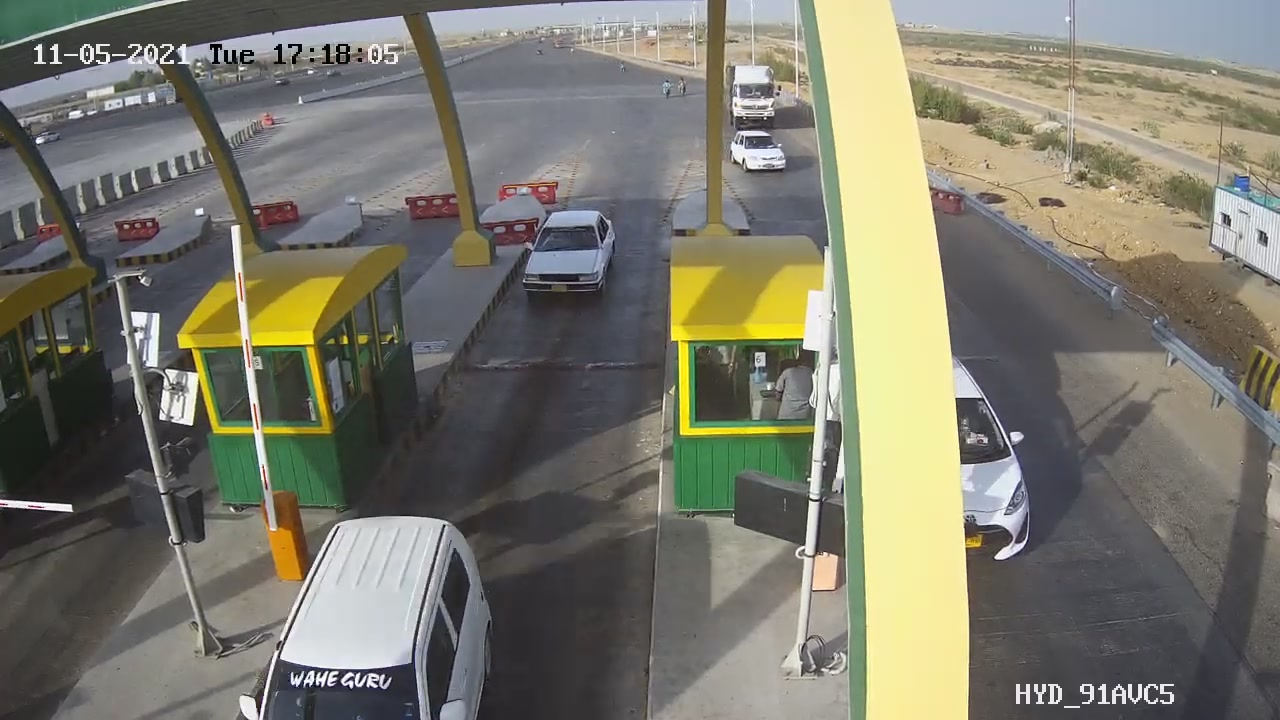F1: (508, 200, 634, 321)
